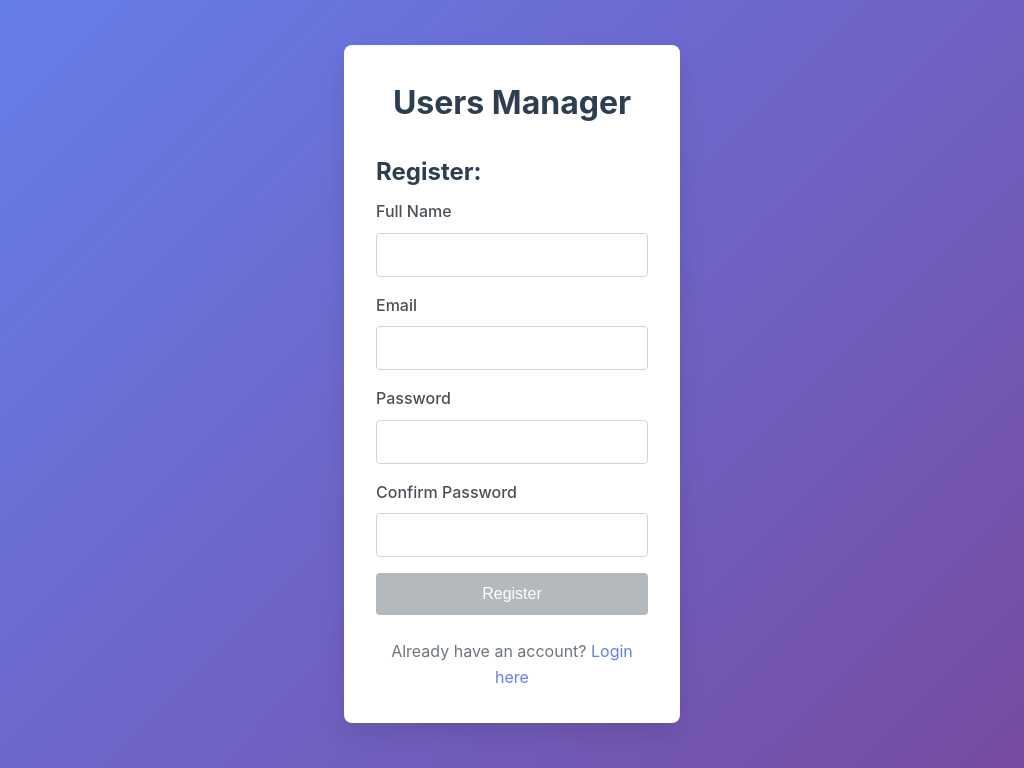
Test: Register › shows loading state
This screenshot has width=1024, height=768.
Type "John Doe" into the field labelled "Full Name" at x=512, y=255, box [376,233,648,277]
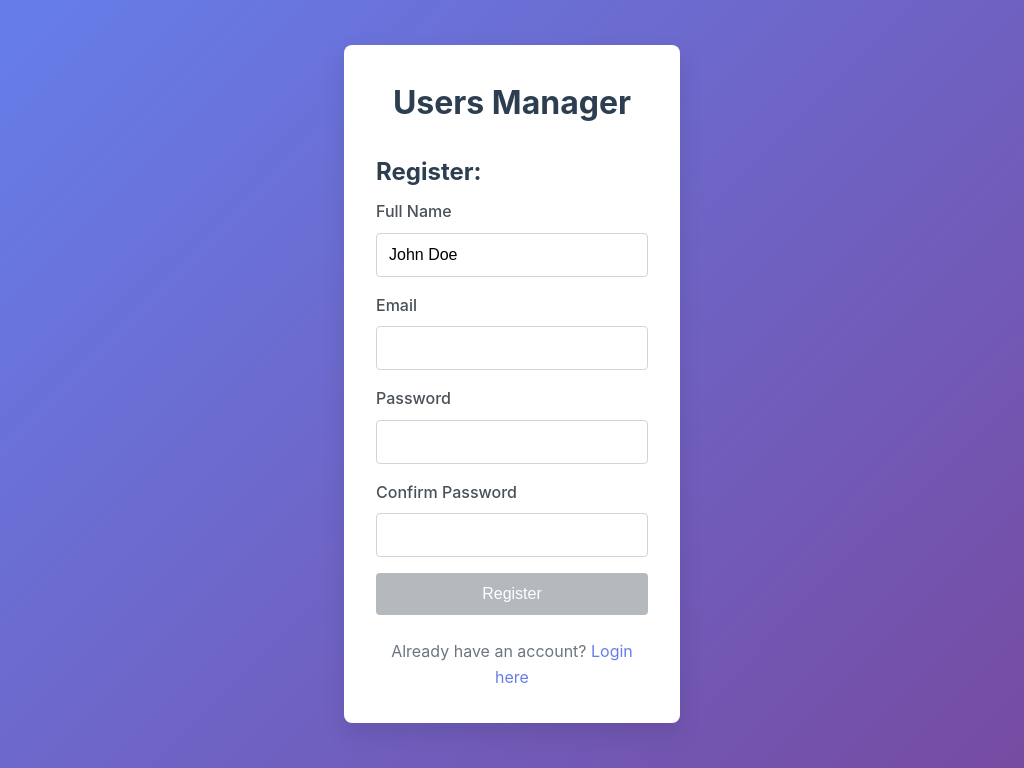
Type "john@example.com" into the field labelled "Email" at x=512, y=348, box [376,326,648,370]
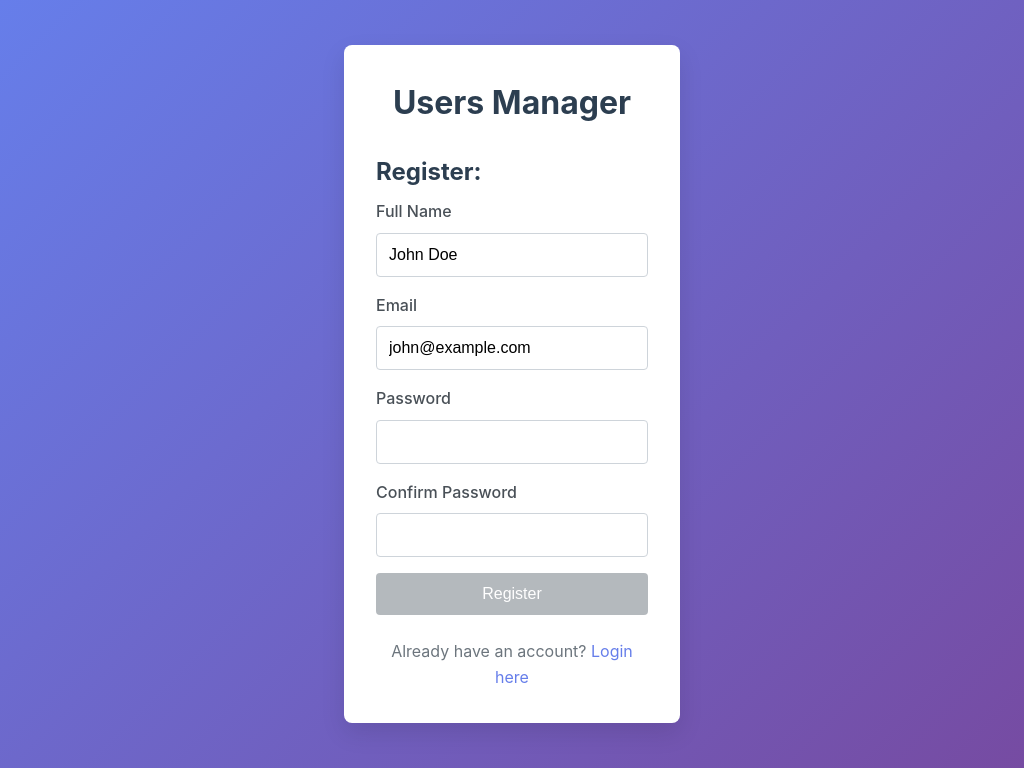
Type "password123" into the password field labelled "Password" at x=512, y=442, box [376,420,648,464]
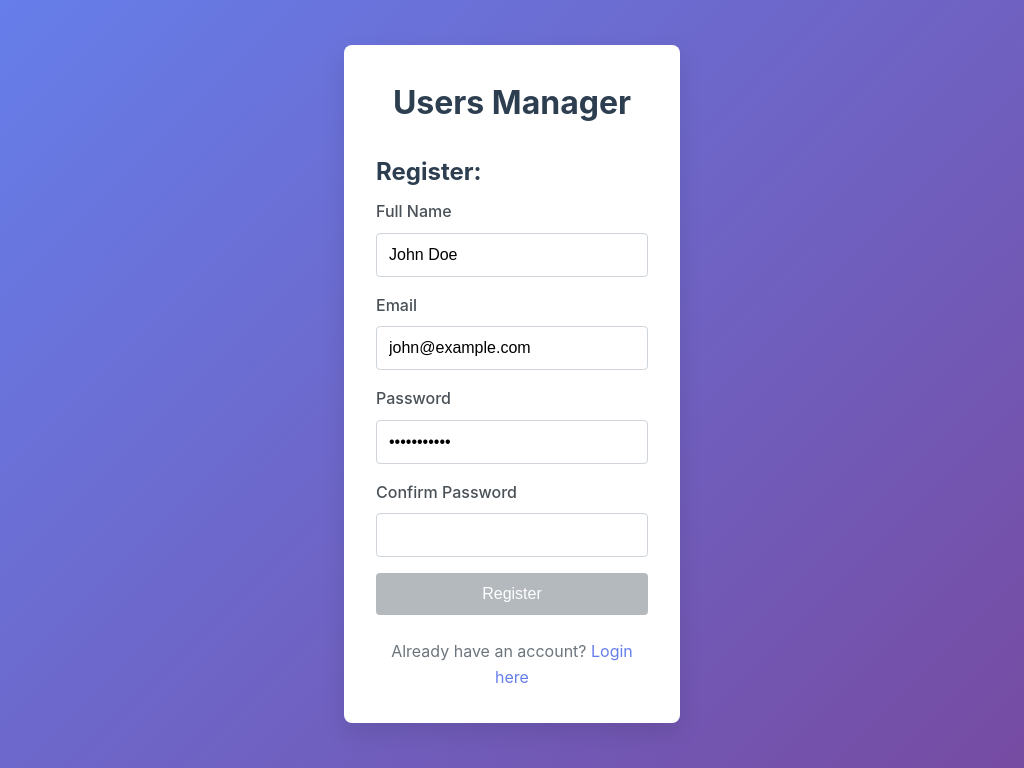
Type "password123" into the password field labelled "Confirm Password" at x=512, y=535, box [376,513,648,557]
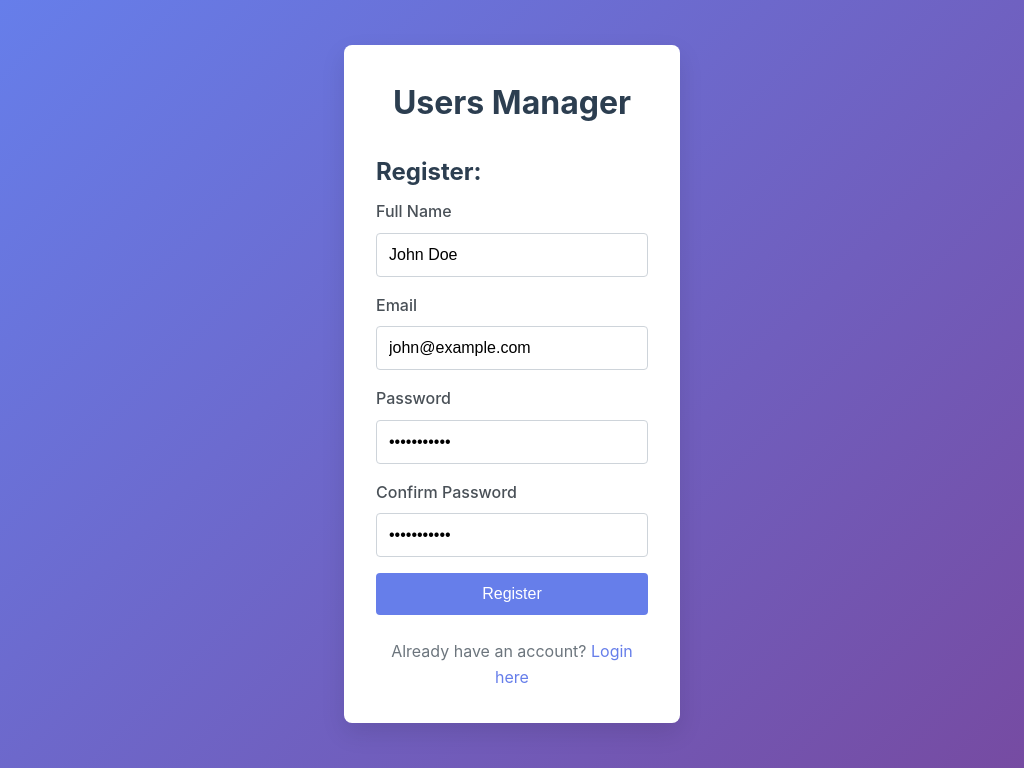
Click the button "Register" at x=512, y=594, box [376,573,648,615]
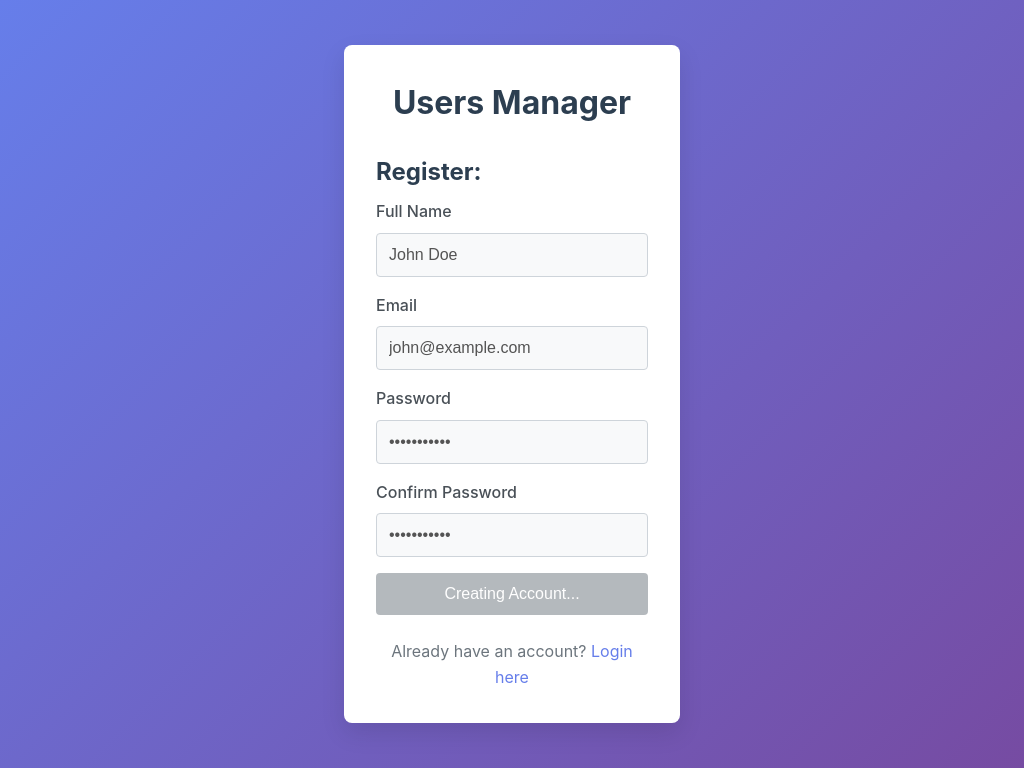
Result: the button "Creating Account..." is shown at [376,573,648,615]
Result: the field labelled "Full Name" is disabled at [376,233,648,277]
Result: the field labelled "Email" is disabled at [376,326,648,370]
